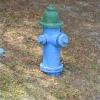a fire hydrant: (40, 4, 70, 76)
